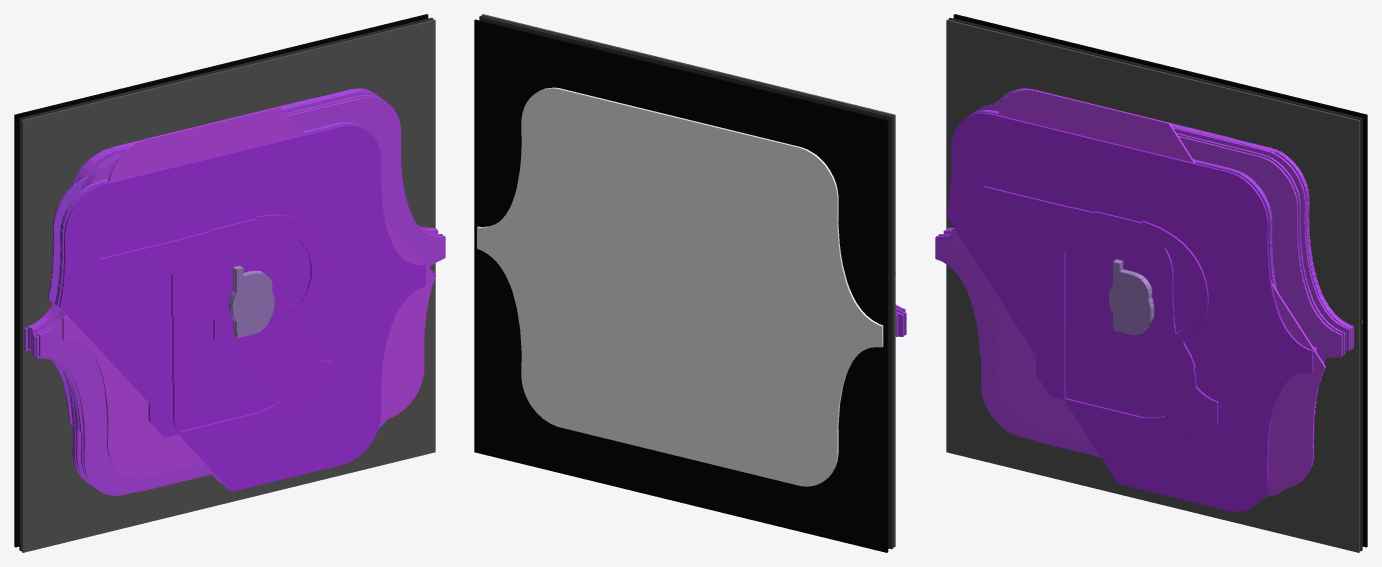
The model's file is bootstrap-original-wordmark.glb.
The picture shows the model from 3 angles, left to right: view 1: azimuth 30°, elevation 25°; view 2: azimuth 150°, elevation 25°; view 3: azimuth 330°, elevation 25°; orthographic projection.
Visible parts, largest first — view 1: color_22_0, color_7_0, color_21_0, color_18_0, color_23_3, color_23_1, color_1_0, color_5_0, color_23_2, color_12_0, color_13_0, color_26_6 (+8 smaller); view 2: color_0_0, color_1_0, color_5_0, color_7_0, color_0_1; view 3: color_22_0, color_7_0, color_21_0, color_18_0, color_23_3, color_23_1, color_1_0, color_5_0, color_12_0, color_16_0, color_26_1, color_23_2 (+6 smaller).
Part boxes in pixels (left/top/right/bottom): color_22_0: left=58, top=124, right=425, bottom=491; color_7_0: left=21, top=19, right=435, bottom=552; color_21_0: left=62, top=106, right=436, bottom=478; color_18_0: left=39, top=96, right=445, bottom=495; color_23_3: left=99, top=222, right=333, bottom=413; color_23_1: left=171, top=214, right=323, bottom=433; color_1_0: left=14, top=14, right=428, bottom=547; color_5_0: left=19, top=17, right=433, bottom=550; color_23_2: left=213, top=268, right=289, bottom=338; color_12_0: left=31, top=91, right=438, bottom=485; color_13_0: left=47, top=177, right=221, bottom=483; color_26_6: left=231, top=280, right=272, bottom=326; color_0_0: left=477, top=87, right=883, bottom=486; color_1_0: left=474, top=19, right=888, bottom=552; color_5_0: left=479, top=16, right=893, bottom=549; color_7_0: left=481, top=14, right=895, bottom=547; color_0_1: left=660, top=257, right=694, bottom=320; color_22_0: left=946, top=112, right=1313, bottom=511; color_7_0: left=946, top=19, right=1360, bottom=552; color_21_0: left=952, top=89, right=1325, bottom=488; color_18_0: left=936, top=97, right=1342, bottom=495; color_23_3: left=983, top=186, right=1218, bottom=439; color_23_1: left=1056, top=207, right=1208, bottom=423; color_1_0: left=953, top=14, right=1367, bottom=547; color_5_0: left=948, top=17, right=1362, bottom=550; color_12_0: left=943, top=91, right=1350, bottom=351; color_16_0: left=938, top=95, right=1345, bottom=354; color_26_1: left=1113, top=270, right=1149, bottom=335; color_23_2: left=1098, top=263, right=1174, bottom=333.
Bounding box in the file's own units: 99.96 × 99.96 × 14.02.
